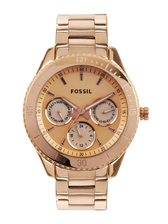watch: (21, 11, 154, 224)
